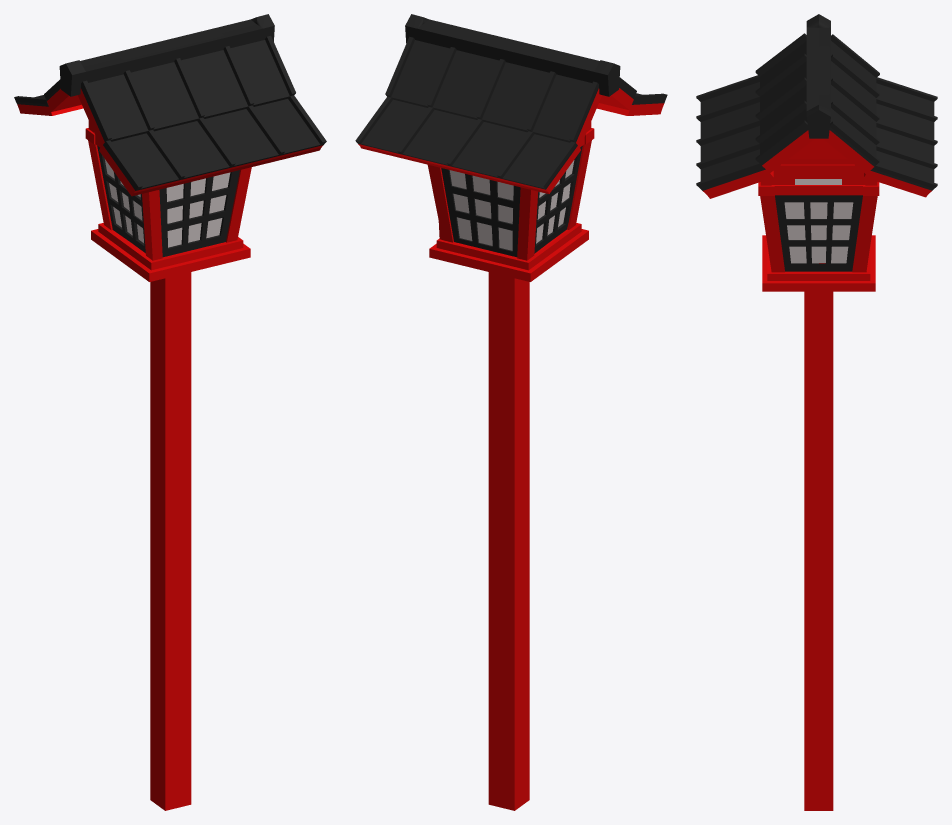
The model's file is 灯篭完成.fbx.
The picture shows the model from 3 angles, left to right: view 1: azimuth 30°, elevation 25°; view 2: azimuth 150°, elevation 25°; view 3: azimuth 270°, elevation 25°; orthographic projection. The views are drawn at different scales.
Parts seen in each view (by area): view 1: pCube141; view 2: pCube141; view 3: pCube141.
Boxes of the visible parts, box(x1,y1,x2,y2) form: pCube141: box(14, 14, 326, 810); pCube141: box(355, 14, 667, 810); pCube141: box(696, 14, 937, 810).
Bounding box in the file's own units: 0.7204 × 2.6 × 0.766.
